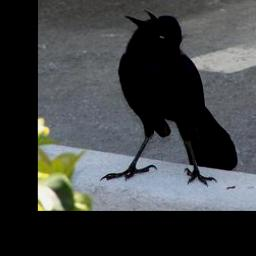Crow: (99, 8, 237, 185)
